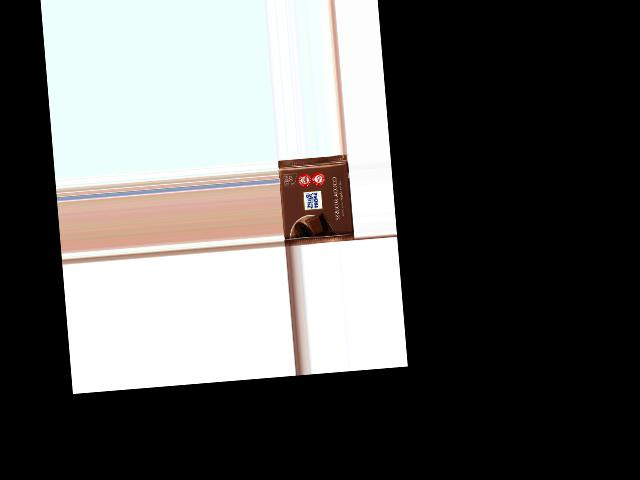chocolate: (278, 156, 355, 246)
